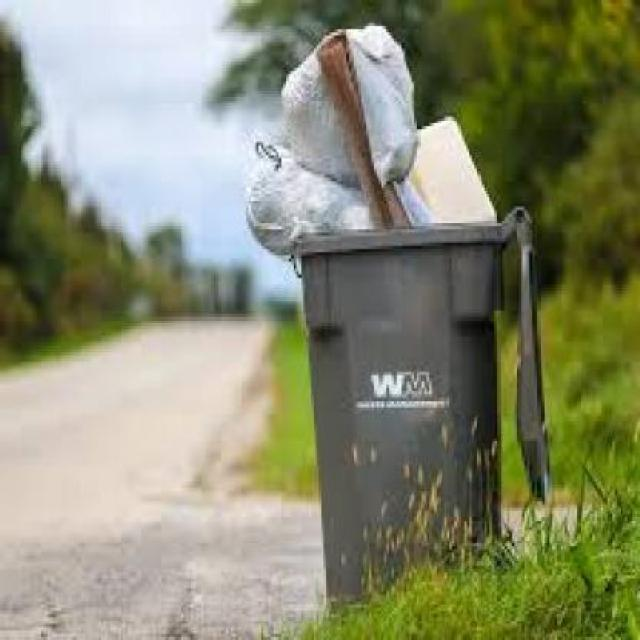garbage: (259, 36, 500, 233)
